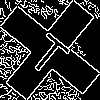T: (25, 25, 77, 79)
